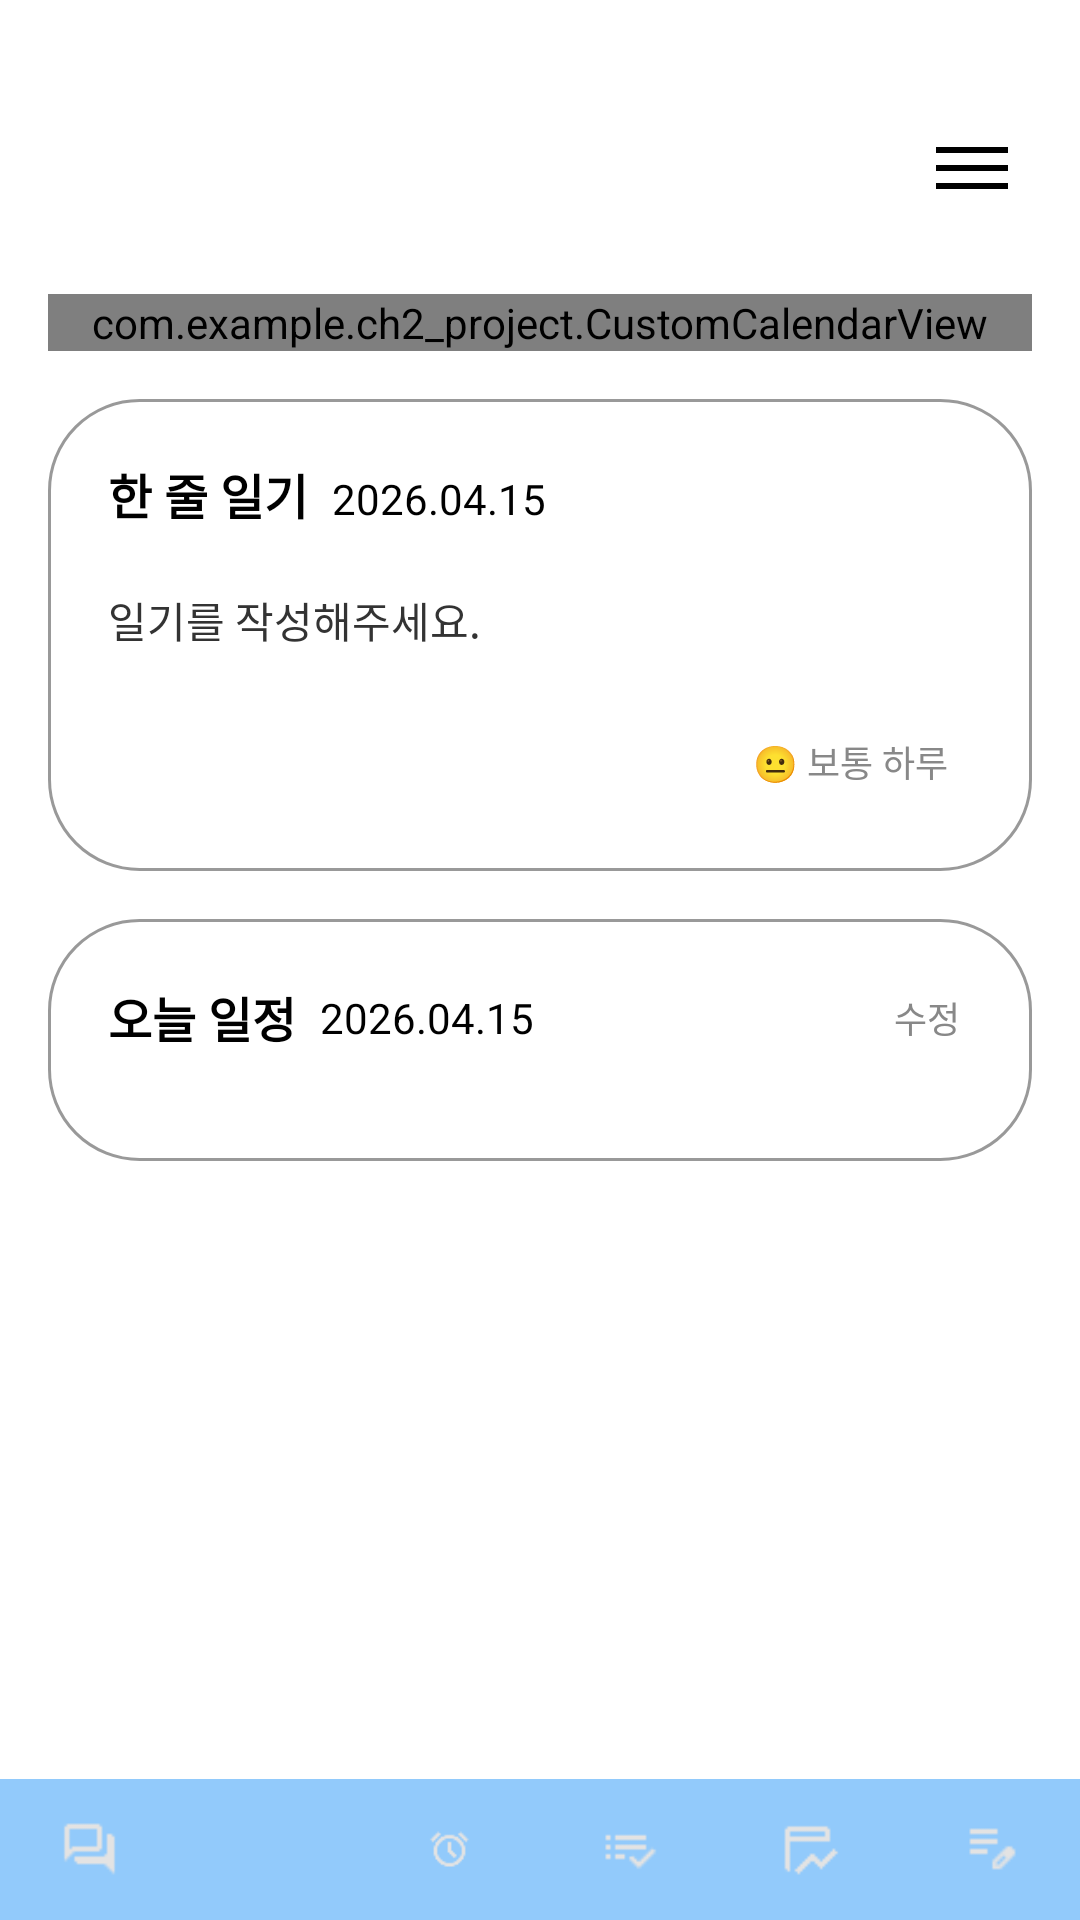

Where to tap for icons on this 1080px×1920px app screen, as (x,y):
analysis: (811,1850)
chat: (89,1849)
memo: (992,1849)
timer: (449,1849)
todo: (630,1851)
